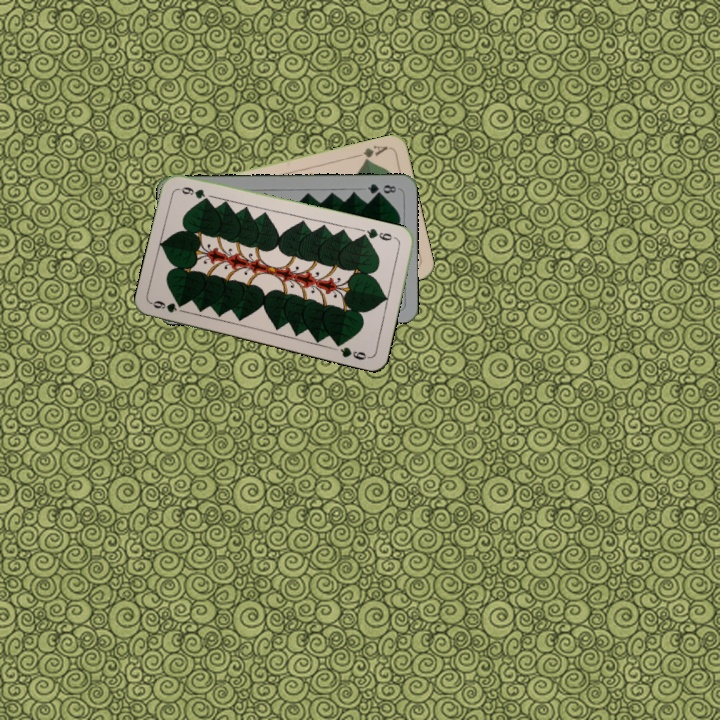G8: (363, 179, 399, 197)
G9: (358, 224, 400, 243), (149, 296, 180, 315)
GA: (351, 141, 390, 164)
